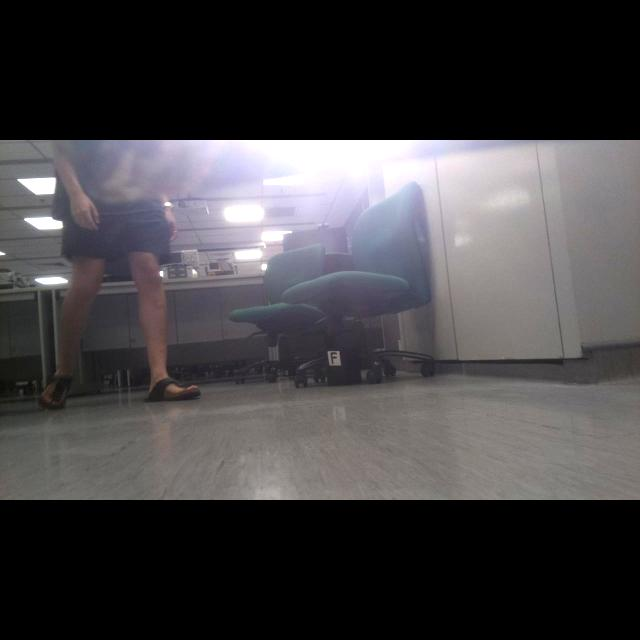F: (331, 352, 337, 364)
